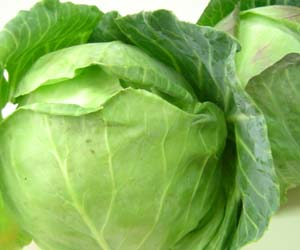cabbage: (0, 0, 282, 249), (193, 1, 299, 215)
